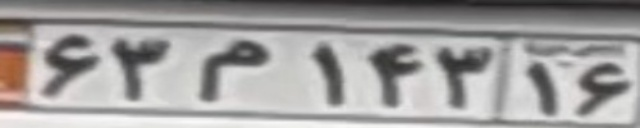1: (520, 59, 561, 113), (310, 43, 344, 105)
3: (109, 35, 173, 99), (435, 44, 489, 108)
4: (364, 43, 421, 108)
6: (37, 31, 99, 99), (575, 58, 631, 116)
mim: (196, 36, 272, 101)
